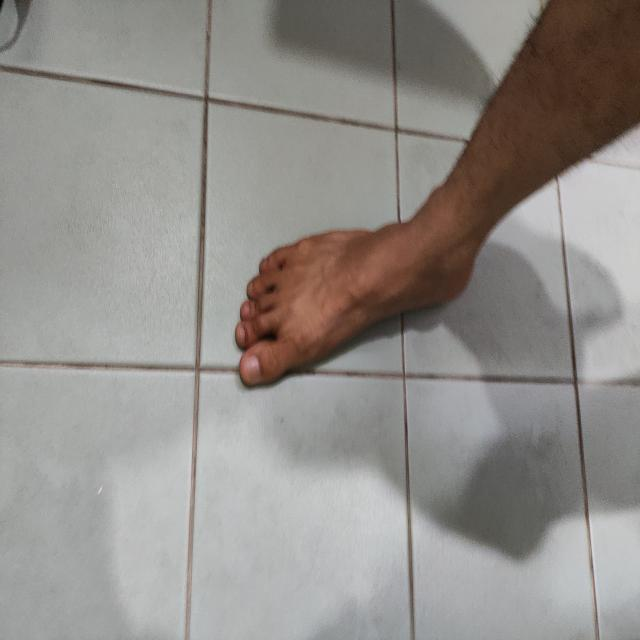No_Shoes: (239, 188, 485, 384)
